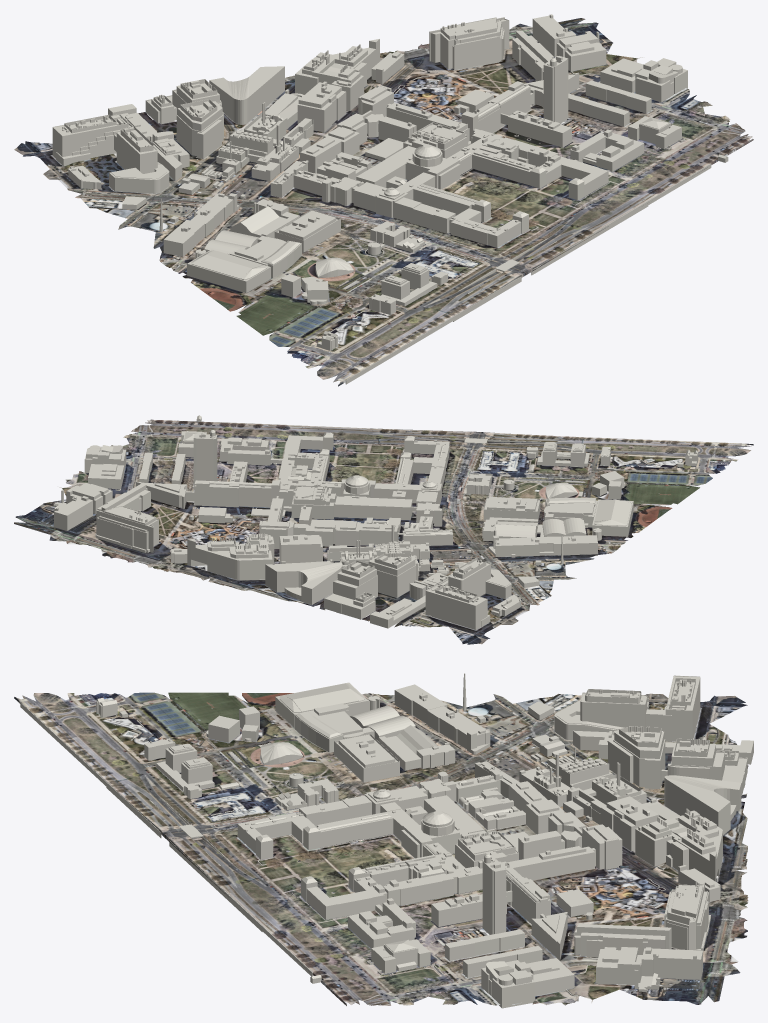
The model's file is campus-without-residences.glb.
The picture shows the model from 3 angles, top to bottom: view 1: azimuth 30°, elevation 25°; view 2: azimuth 150°, elevation 25°; view 3: azimuth 270°, elevation 25°; orthographic projection. The views are drawn at different scales.
Bounding box in the file's own units: 842 × 102 × 840.
2 materials, 1 textured.
